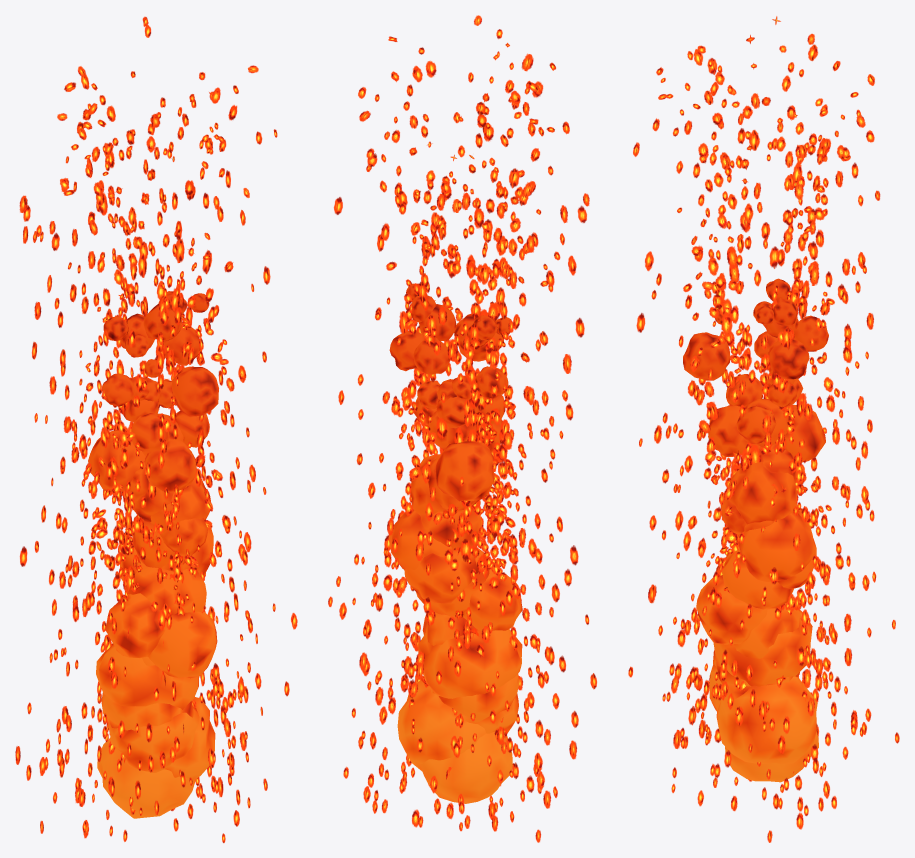
Rendered from lava_fountain_b.glb.
3 renders of one model, left to right at view 1: azimuth 30°, elevation 25°; view 2: azimuth 150°, elevation 25°; view 3: azimuth 270°, elevation 25°, orthographic. The views are drawn at different scales.
Size of the model in its own units: 24.78 by 74.97 by 24.51.
2 materials, 1 textured.
